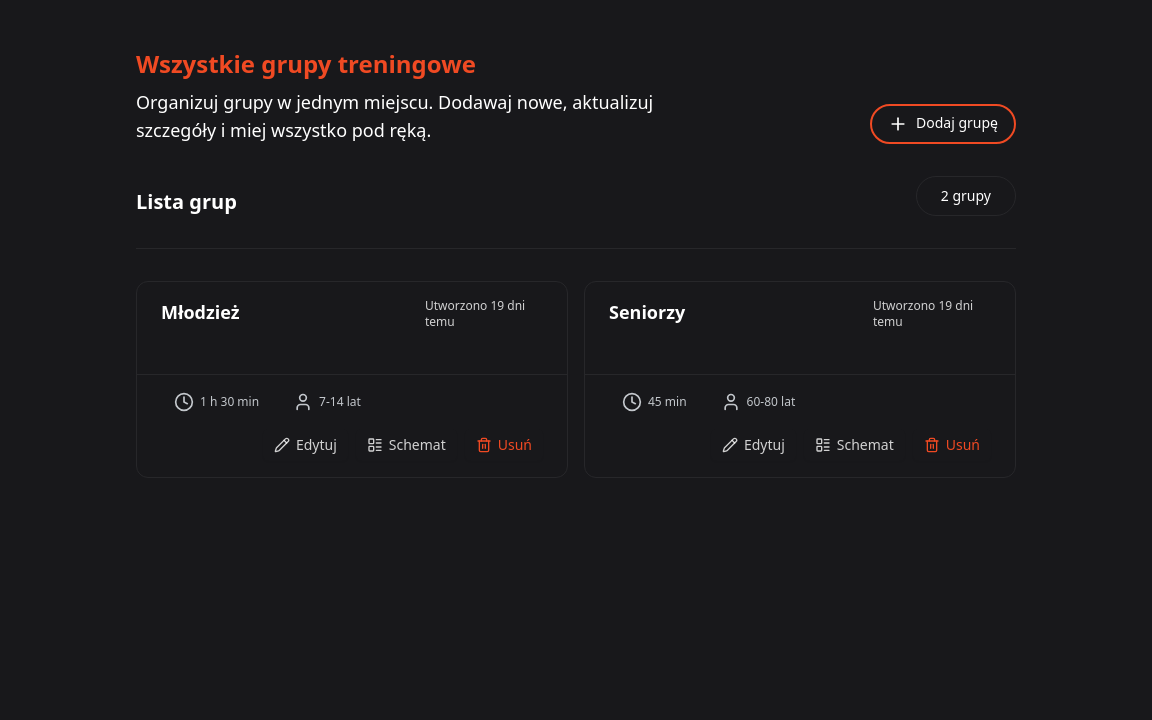
Test: GroupListPage › opens a prefilled edit dialog for the clicked group
What coordinates should you click on to do the following:
click the button "Edytuj" below "45 min"
I would click on:
 (753, 445)
Its box is [711,429,796,461].
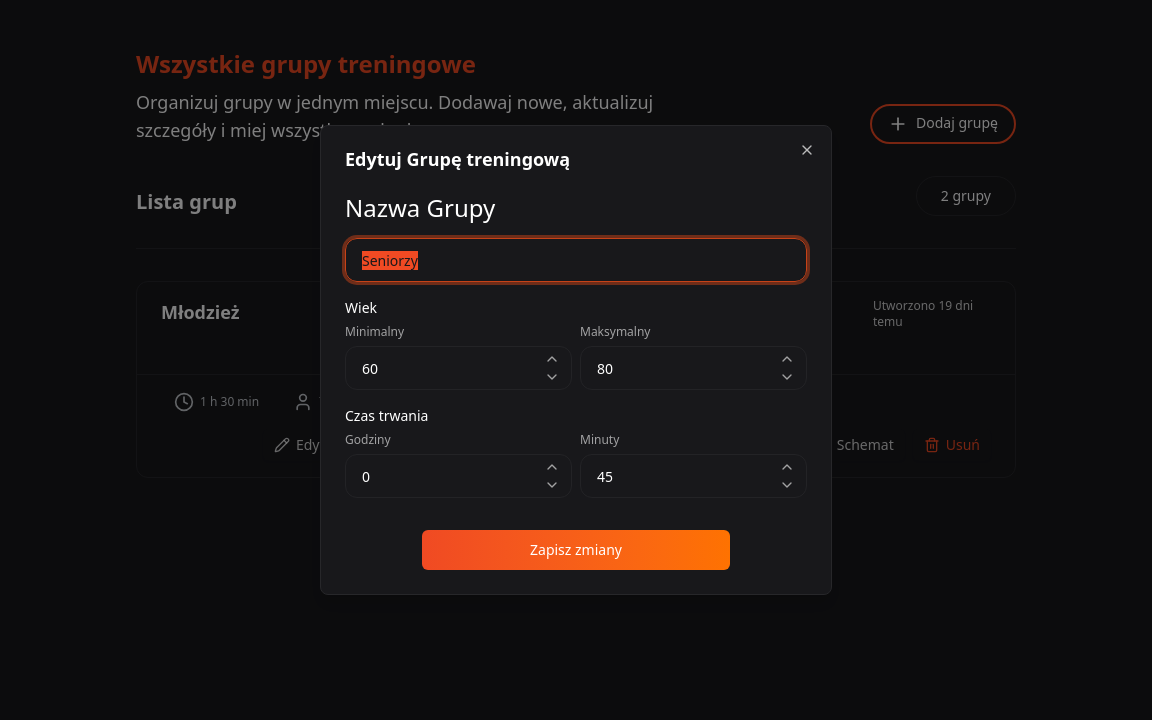
Result: the heading "Edytuj Grupę treningową" is shown at [345,147,570,171]
Result: the field labelled "Nazwa Grupy" holds "Seniorzy" at [345,238,807,282]
Result: the number field labelled "Minimalny" holds "60" at [345,346,572,390]
